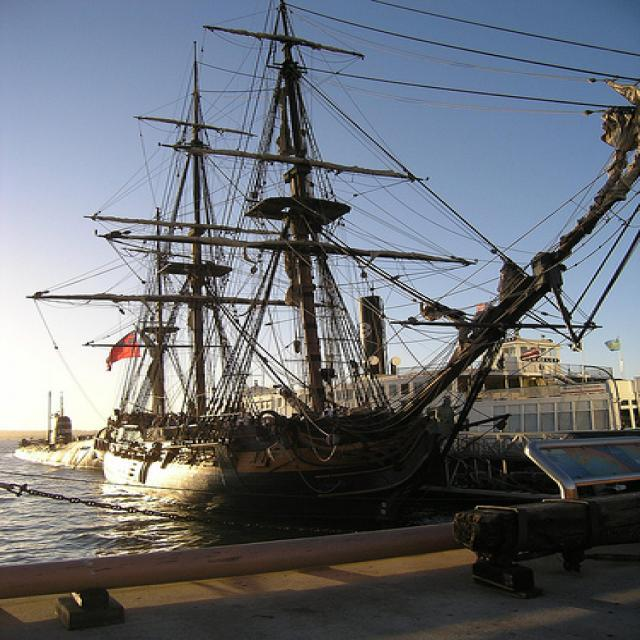Ship: (18, 6, 640, 521)
